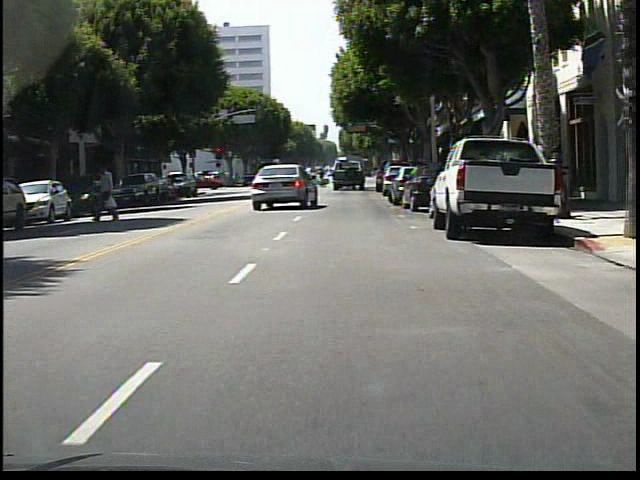person: (100, 162, 122, 225), (300, 168, 311, 190), (318, 166, 328, 190)
